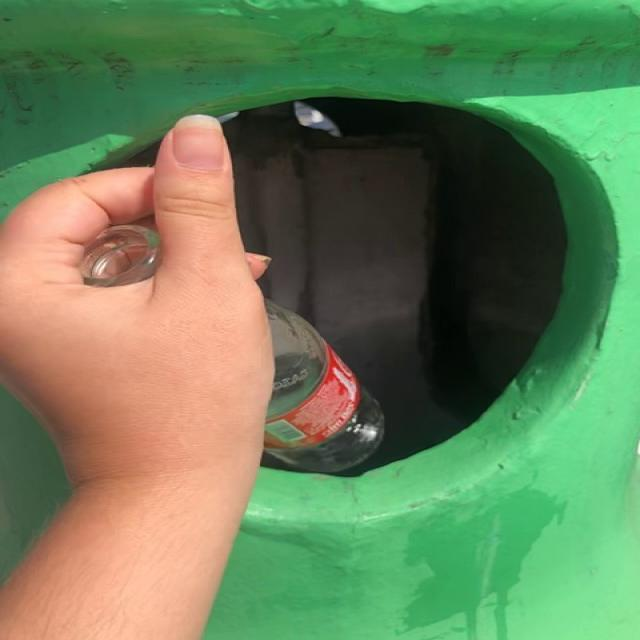Glass: (264, 300, 384, 474), (80, 226, 159, 288)
